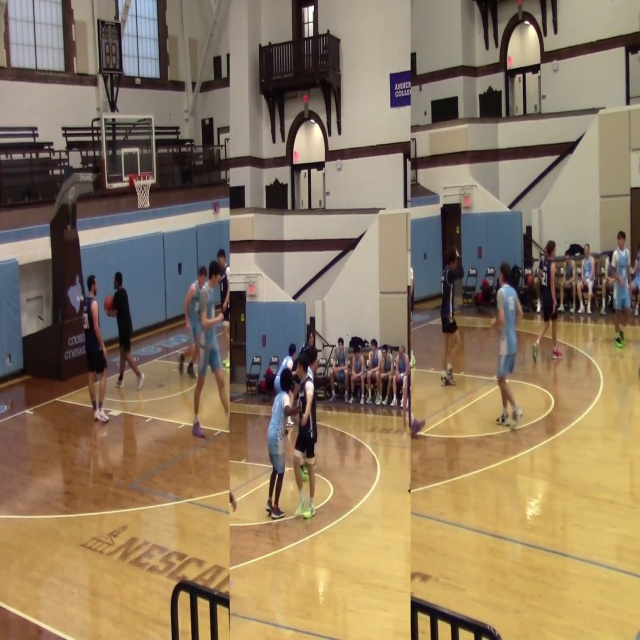Basketball: (410, 419, 425, 435), (104, 295, 114, 311)
